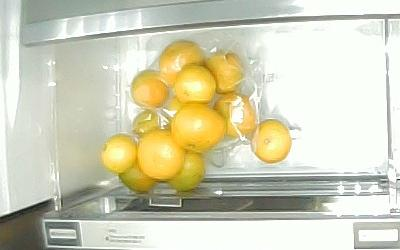tangerine: (171, 102, 227, 151), (137, 129, 184, 179), (250, 119, 292, 163), (100, 133, 138, 172), (169, 152, 205, 189), (118, 164, 157, 193)
tangerine_vinyl: (158, 40, 202, 91), (201, 50, 245, 96), (214, 93, 257, 137), (132, 69, 170, 108), (133, 109, 171, 135)
